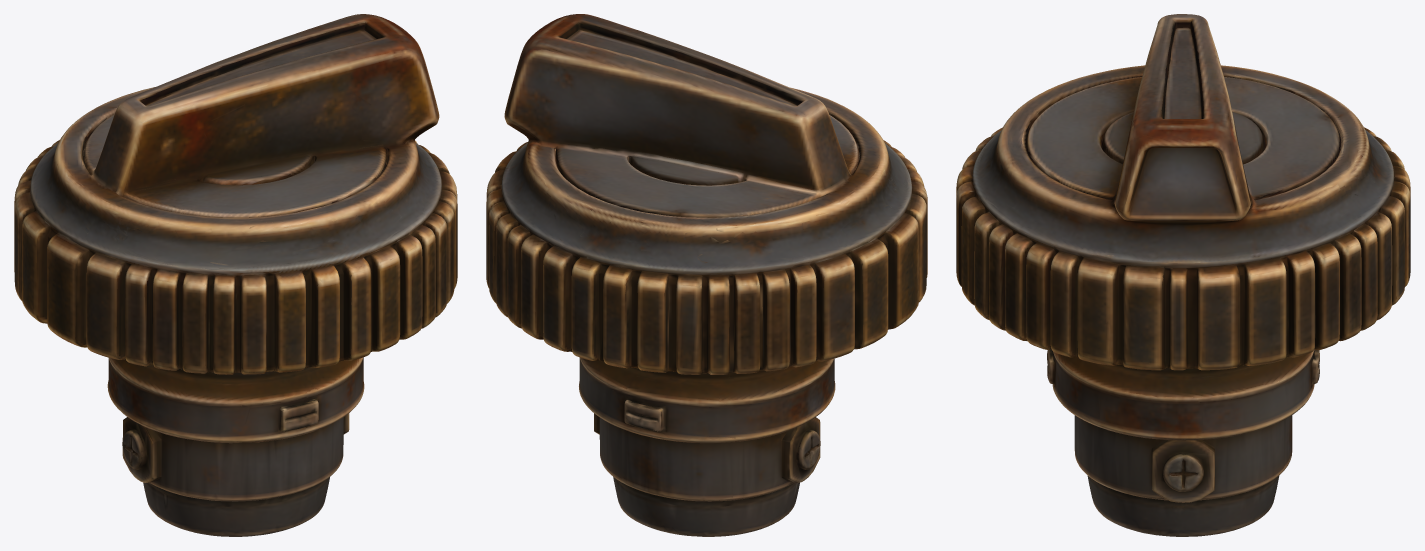
File: adjuster.glb
The picture shows the model from 3 angles, left to right: view 1: azimuth 30°, elevation 25°; view 2: azimuth 150°, elevation 25°; view 3: azimuth 270°, elevation 25°; orthographic projection. The views are drawn at different scales.
Visible parts, largest first — view 1: Mesh_0; view 2: Mesh_0; view 3: Mesh_0.
Boxes of the visible parts, x1,y1,x2,y2 form: Mesh_0: (14,14,457,536); Mesh_0: (486,14,927,536); Mesh_0: (956,14,1410,536).
Bounding box in the file's own units: 0.8708 × 0.9565 × 0.8693.
Materials: 1 (1 with a texture image).
